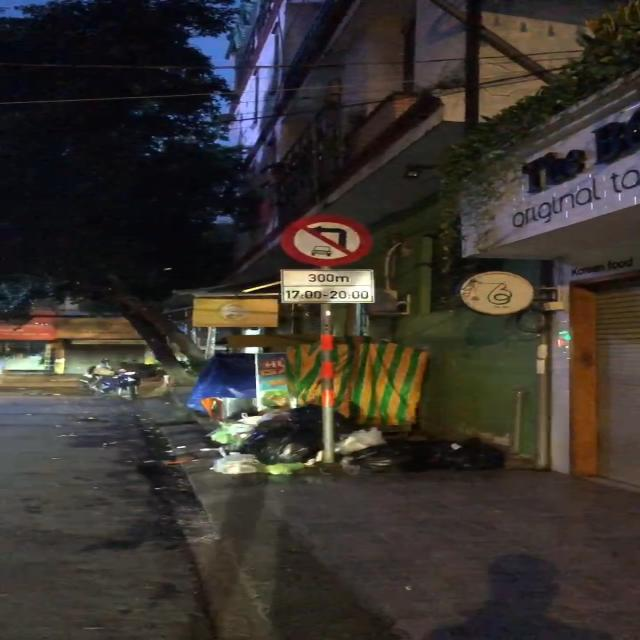Bien bao cam xe o to re trai: (278, 212, 372, 264)
